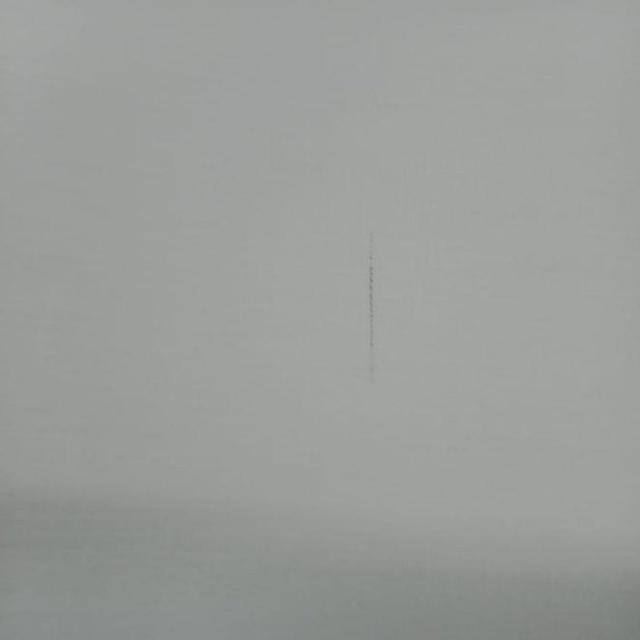contamination: (360, 226, 384, 392)
